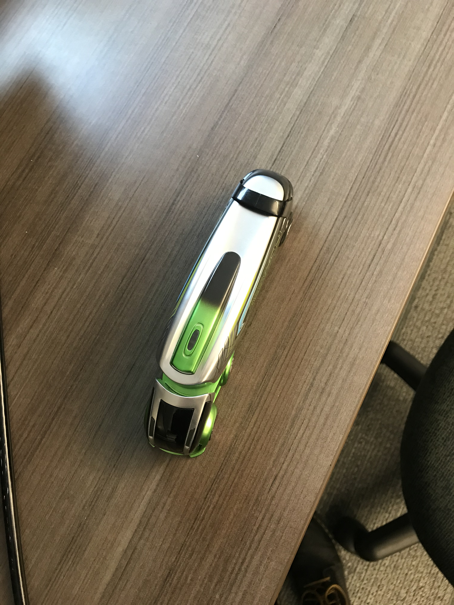Freewheel: (145, 169, 294, 457)
